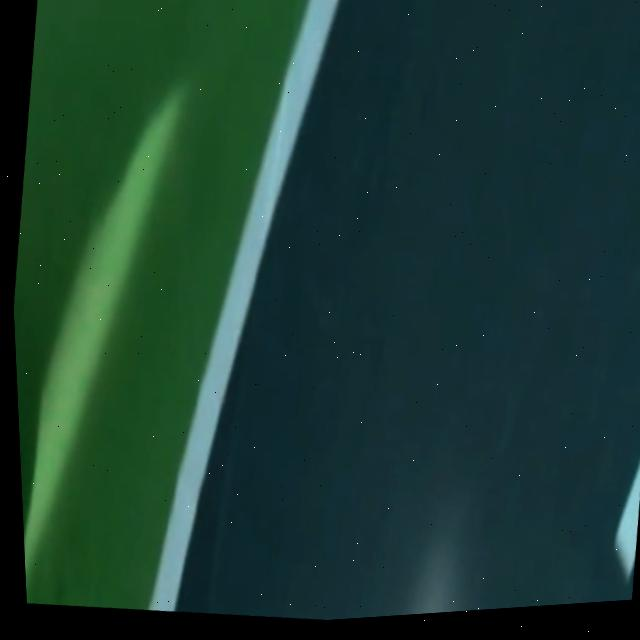center: (616, 460, 640, 578)
right: (148, 0, 339, 611)
